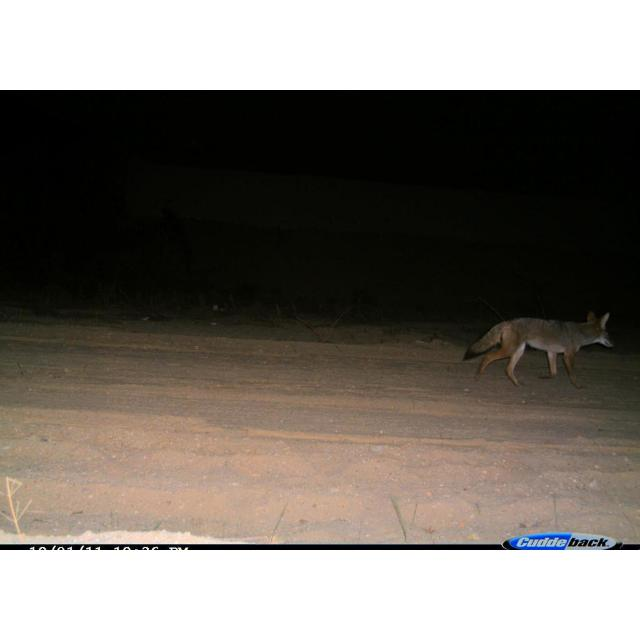animals: (462, 308, 616, 389)
